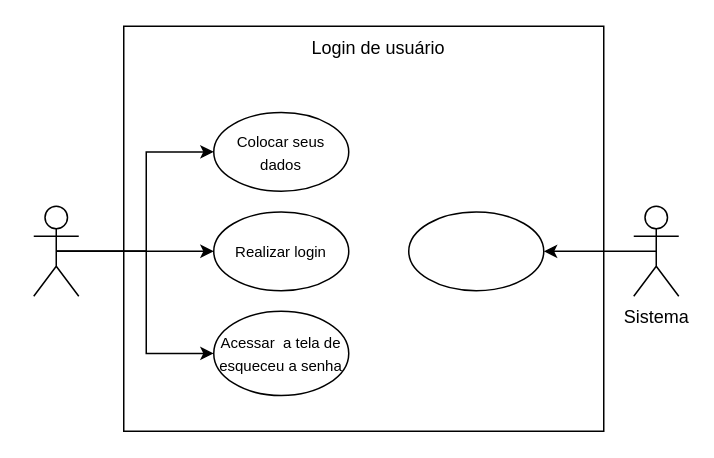
Image size: 714x458. Some labels were removed from this diagram. Each missing label, with the box of its shape:
Usuario: (32, 205, 79, 296)
Verificar dados: (407, 210, 544, 291)
